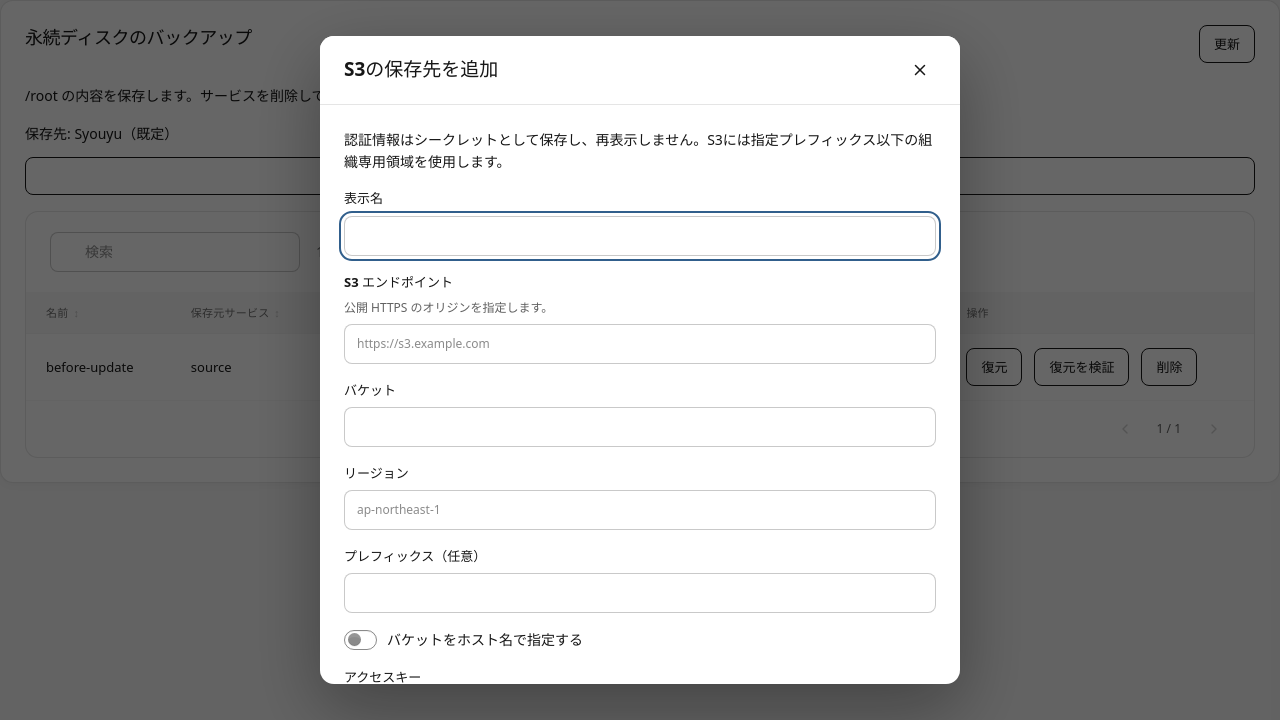
it: FlashBackupsPanel › S3の認証情報は保存後にフォームから消える
The width and height of the screenshot is (1280, 720).
Earlier steps of the test are not shown.
Type "外部" into the field named "保存先の表示名" at {"x": 640, "y": 236}, box [344,216,936,256]
Type "https://storage.example" into the field labelled "S3 エンドポイント" at {"x": 640, "y": 344}, box [344,324,936,364]
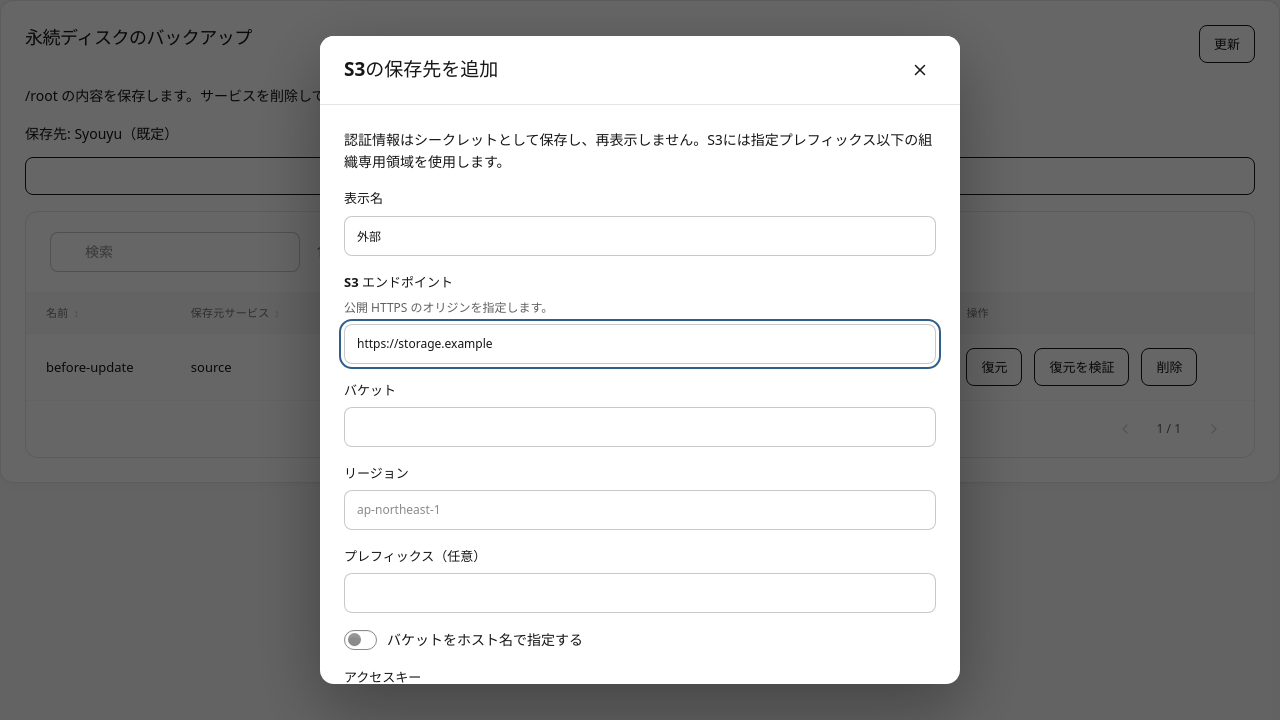
Type "backup-bucket" into the field named "S3 バケット" at {"x": 640, "y": 427}, box [344,407,936,447]
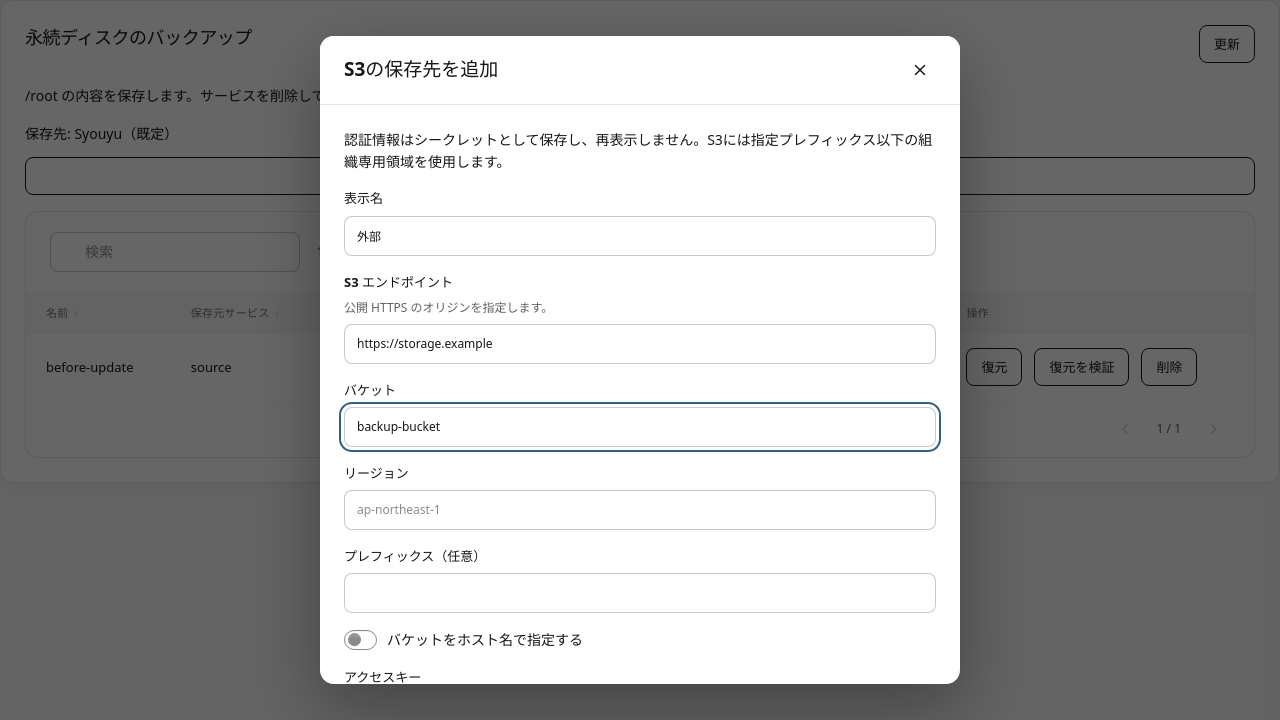
Type "us-east-1" into the field named "S3 リージョン" at {"x": 640, "y": 510}, box [344,490,936,530]
(page scrolled)
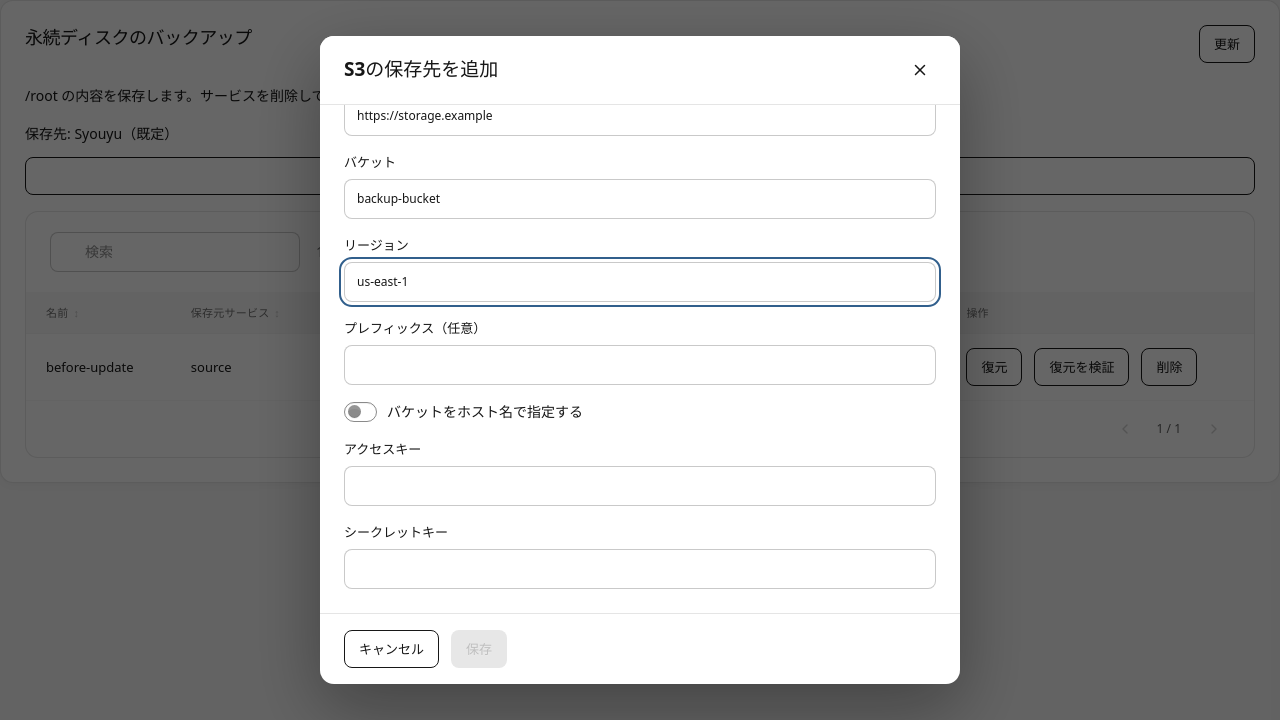
Type "test-access" into the password field named "S3 アクセスキー" at {"x": 640, "y": 486}, box [344,466,936,506]
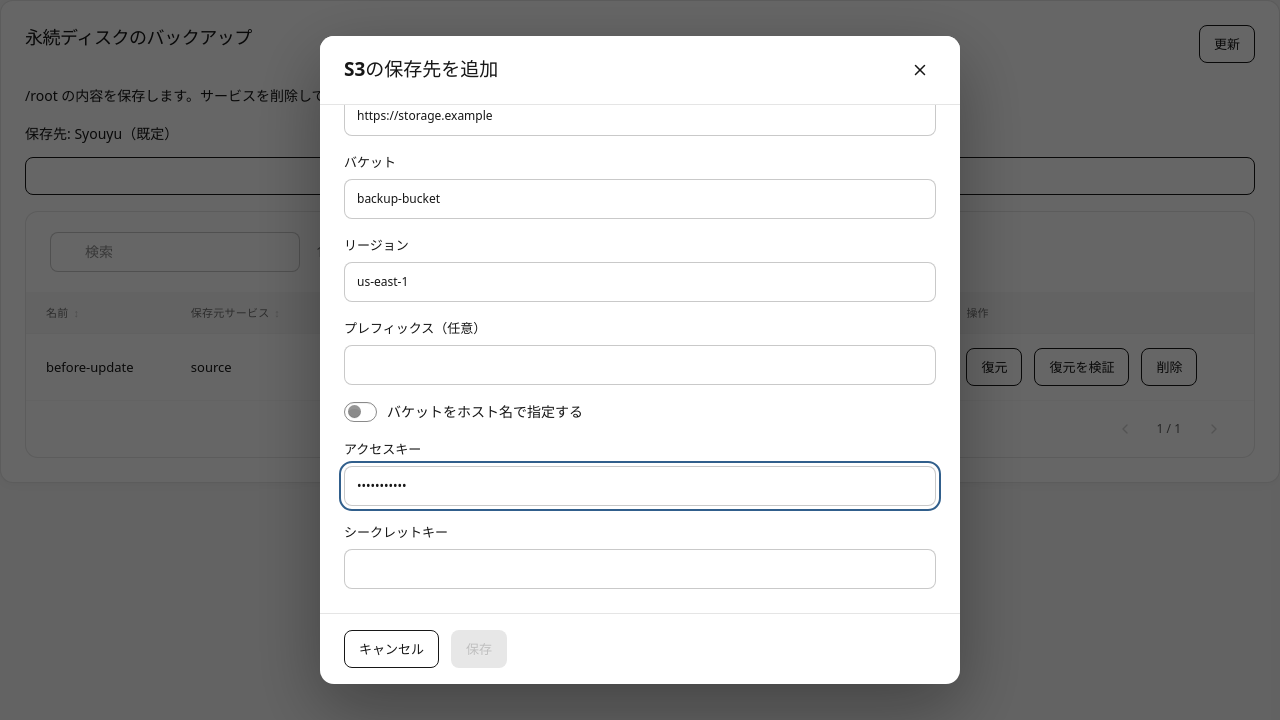
Type "test-secret" into the password field named "S3 シークレットキー" at {"x": 640, "y": 569}, box [344,549,936,589]
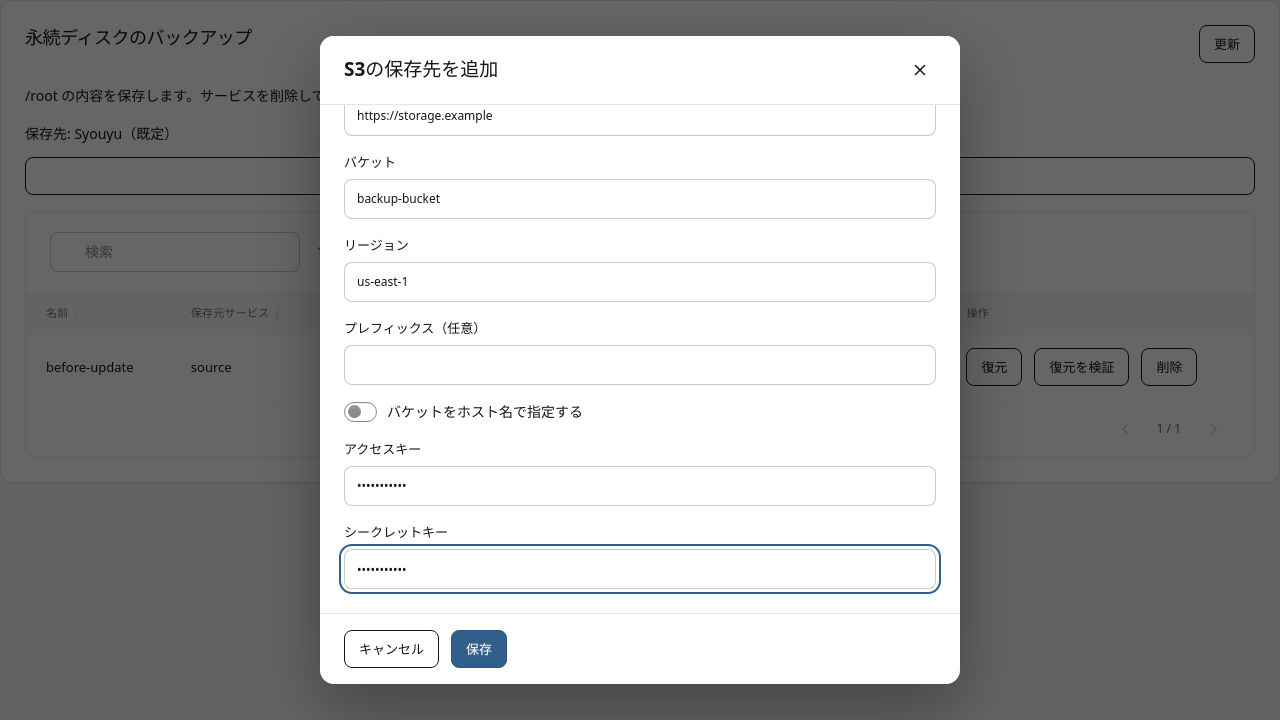
Click the button "保存" at {"x": 479, "y": 649}, box [451,630,507,668]
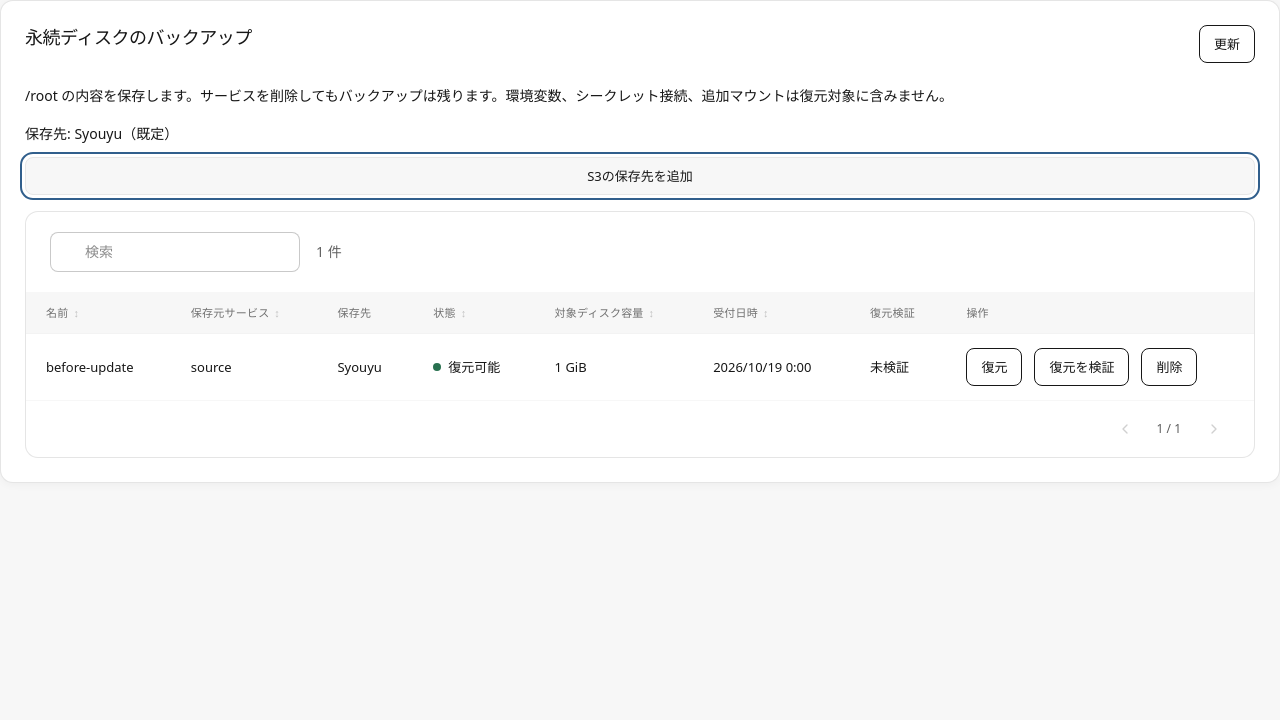
Expected: the password field labelled "S3 シークレットキー" is gone
